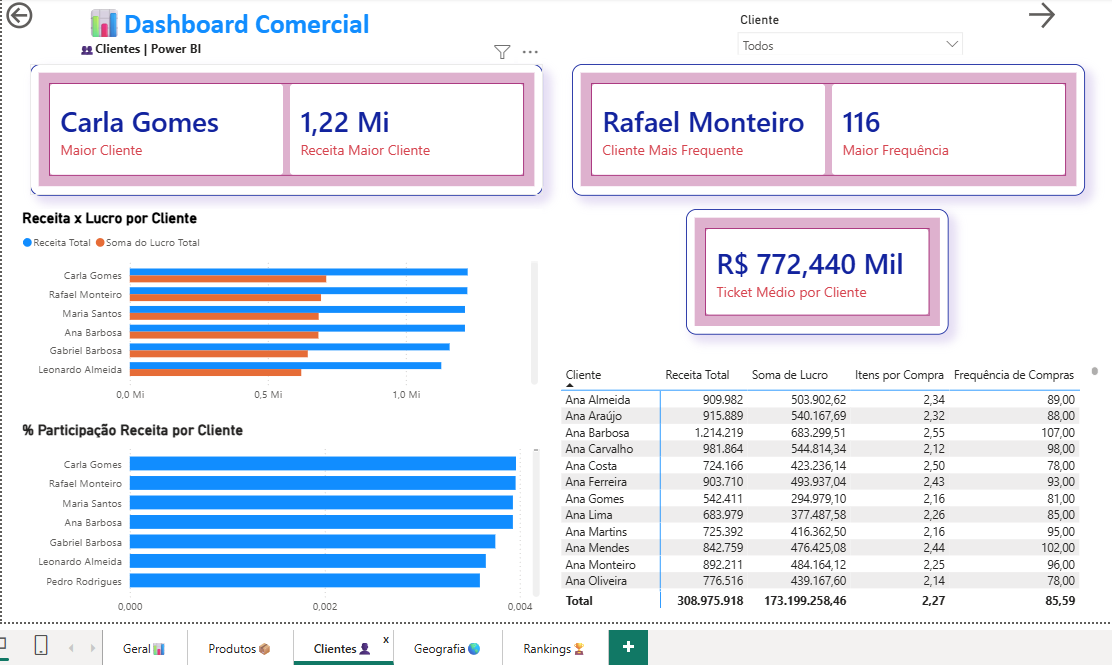

The page's visual inventory and layout, read from the dashboard file:
{"tool":"powerbi","page":{"name":"Clientes👤","canvas":[1280,720],"ordinal":2},"visuals":[{"type":"textbox","box":[84.2,0,375,76.2],"z":0},{"type":"slicer","fields":{"Values":["BaseVendas.Cliente"]},"box":[839.2,11.6,280.2,54],"z":1000},{"type":"actionButton","box":[0,0,100,40],"z":3000},{"type":"cardVisual","fields":{"Data":["BaseVendas.Maior Cliente","BaseVendas.Receita Maior Cliente"]},"box":[32.1,75.8,592.4,151.6],"z":5000},{"type":"actionButton","box":[1179.2,0,100,40],"z":8001},{"type":"clusteredBarChart","title":"Receita x Lucro por Cliente","fields":{"Category":["BaseVendas.Cliente"],"Y":["BaseVendas.Receita Total","BaseVendas.Soma do Lucro Total"]},"box":[18.7,243.5,604.9,231.7],"z":8002},{"type":"cardVisual","fields":{"Data":["BaseVendas.Ticket Médio por Cliente"]},"box":[789.1,242.9,303,145.1],"z":8003},{"type":"pivotTable","fields":{"Rows":["BaseVendas.Cliente"],"Values":["BaseVendas.Receita Total","Sum(BaseVendas.Lucro)","BaseVendas.Itens por Compra","BaseVendas.Frequência de Compras"]},"box":[640,420.2,629.7,289.2],"z":8004},{"type":"clusteredBarChart","title":"% Participação Receita por Cliente","fields":{"Category":["BaseVendas.Cliente"],"Y":["BaseVendas.% Participação Receita Cliente"]},"box":[18.5,488.1,606.9,231.9],"z":8005},{"type":"cardVisual","fields":{"Data":["BaseVendas.Cliente Mais Frequente","BaseVendas.Maior Frequência"]},"box":[658,75.8,592.4,151.6],"z":8006}]}

Visuals, with their boxes on the page's 1280x720 design canvas (x1, y1, x2, y2). These are canvas units, not pixel positions in the 1112x665 screenshot, which may show the page scaled, cropped or inside an application window:
textbox: x1=84, y1=0, x2=459, y2=76
slicer - BaseVendas.Cliente: x1=839, y1=12, x2=1119, y2=66
actionButton: x1=0, y1=0, x2=100, y2=40
cardVisual - BaseVendas.Maior Cliente x BaseVendas.Receita Maior Cliente: x1=32, y1=76, x2=624, y2=227
actionButton: x1=1179, y1=0, x2=1279, y2=40
"Receita x Lucro por Cliente" clusteredBarChart: x1=19, y1=244, x2=624, y2=475
cardVisual - BaseVendas.Ticket Médio por Cliente: x1=789, y1=243, x2=1092, y2=388
pivotTable - BaseVendas.Cliente x BaseVendas.Receita Total: x1=640, y1=420, x2=1270, y2=709
"% Participação Receita por Cliente" clusteredBarChart: x1=18, y1=488, x2=625, y2=720
cardVisual - BaseVendas.Cliente Mais Frequente x BaseVendas.Maior Frequência: x1=658, y1=76, x2=1250, y2=227
